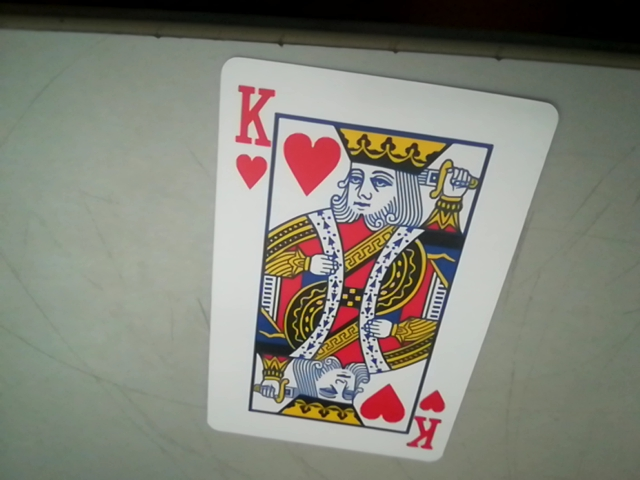hx k: (230, 82, 273, 189), (406, 390, 456, 452)
